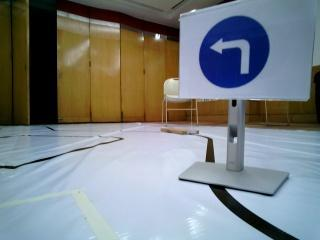left: (182, 14, 295, 100)
